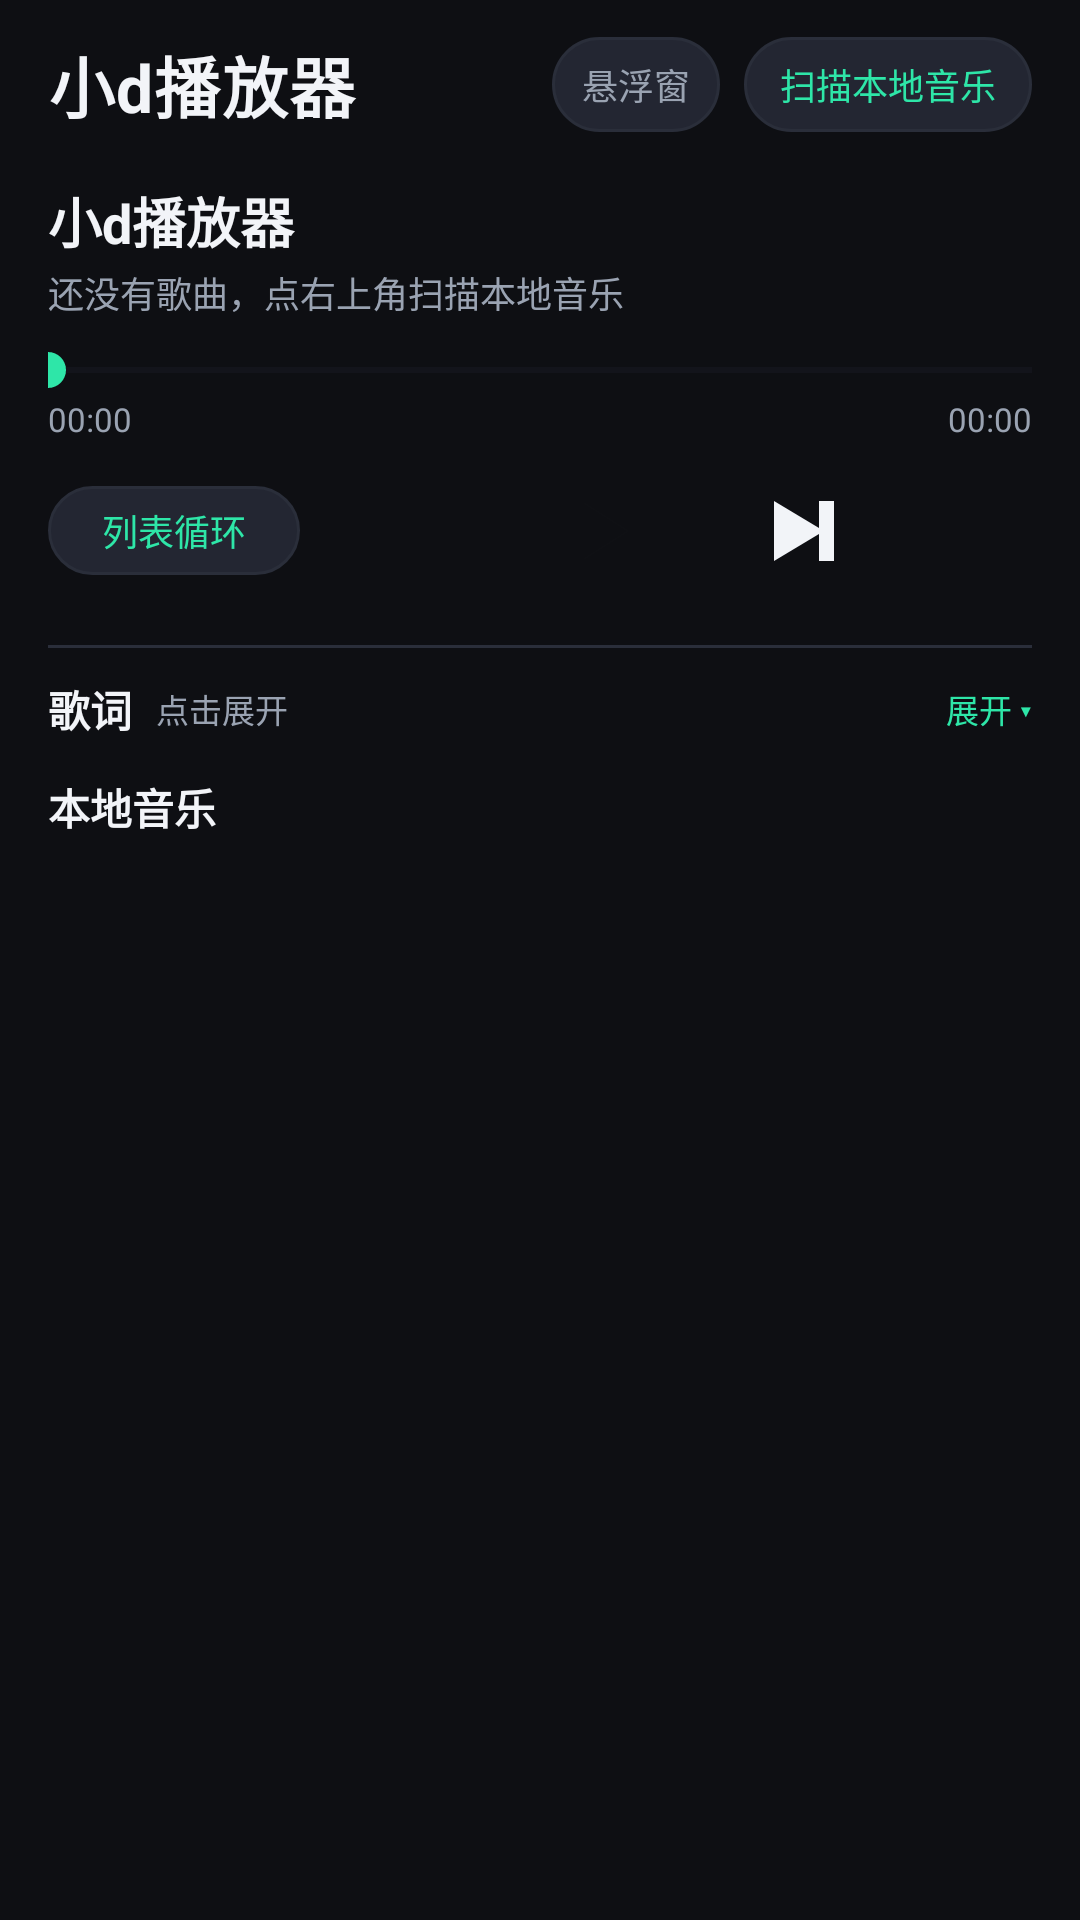

Screen size 1080 × 1920. Icon name, then its center in pixels as (x,y):
下一首: (804,531)
